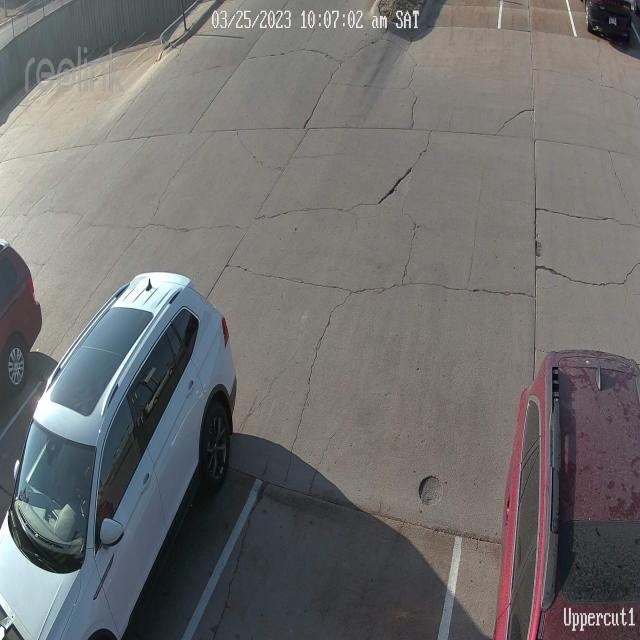Empty-slot: (185, 433, 476, 640), (409, 0, 509, 60)
Slot-Occupied: (5, 271, 226, 640), (498, 352, 640, 640), (0, 243, 45, 393), (588, 0, 637, 45), (516, 0, 563, 26)
